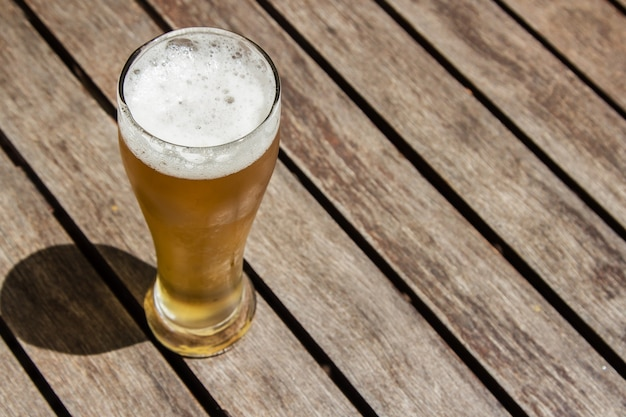alcohol: (116, 27, 282, 361)
